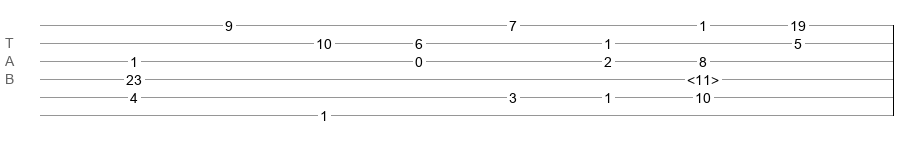0: (415, 54, 423, 64)
1: (130, 54, 138, 64), (320, 108, 328, 118), (604, 90, 612, 100), (604, 36, 612, 46), (699, 18, 707, 28)
10: (316, 36, 332, 46), (695, 90, 711, 100)
19: (790, 18, 806, 28)
2: (604, 54, 612, 64)
23: (126, 72, 142, 82)
3: (509, 90, 517, 100)
4: (130, 90, 138, 100)
5: (794, 36, 802, 46)
6: (415, 36, 423, 46)
7: (509, 18, 517, 28)
8: (699, 54, 707, 64)
9: (225, 18, 233, 28)
harmonic: (687, 72, 719, 82)
